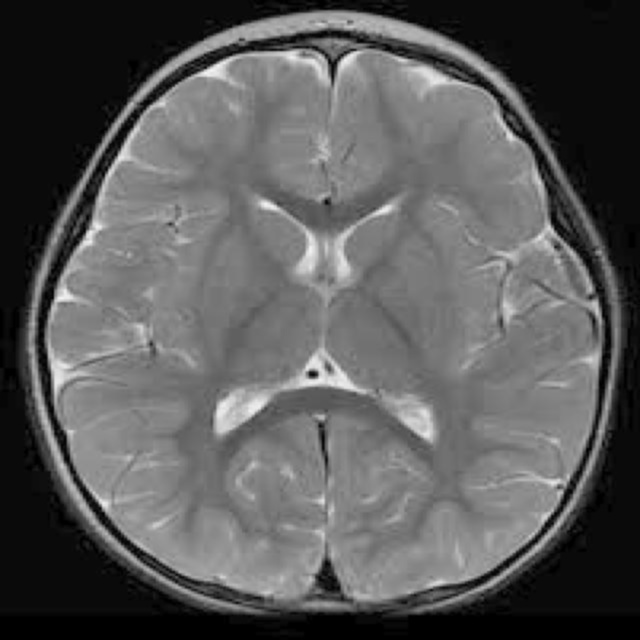glioma tumor: (156, 56, 513, 566)
